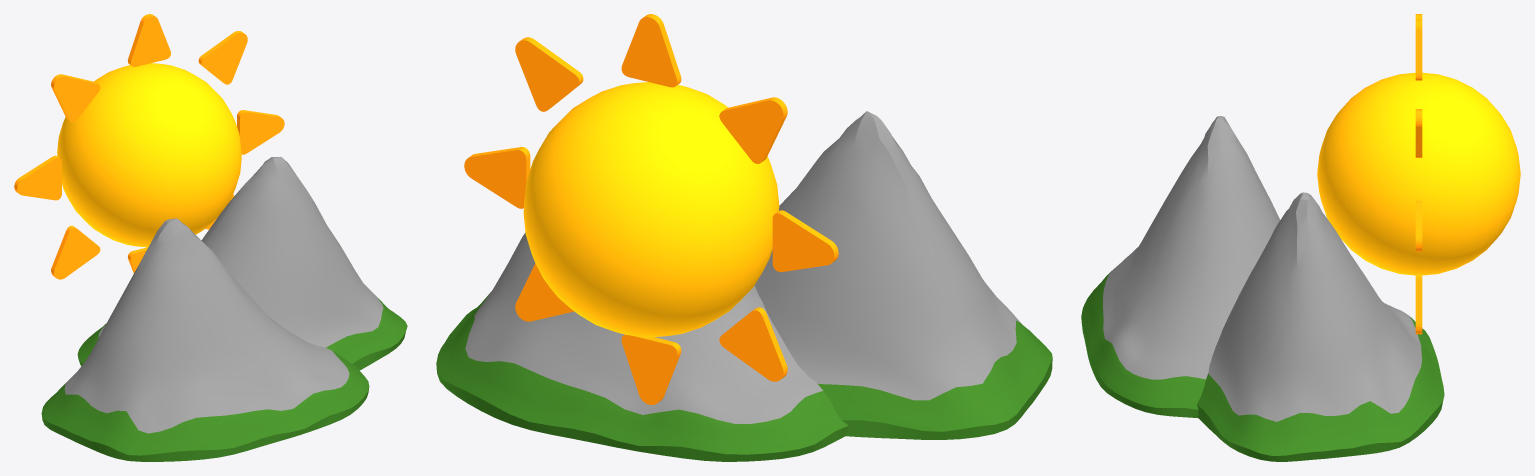
Rendered from sunrise_over_mountains.glb.
The picture shows the model from 3 angles, left to right: view 1: azimuth 30°, elevation 25°; view 2: azimuth 150°, elevation 25°; view 3: azimuth 270°, elevation 25°; orthographic projection. The views are drawn at different scales.
Parts seen in each view (by area): view 1: Cube.525; view 2: Cube.525; view 3: Cube.525.
Boxes of the visible parts, <box> form: Cube.525: <box>14,14,407,461</box>; Cube.525: <box>436,14,1052,461</box>; Cube.525: <box>1081,14,1520,461</box>.
Bounding box in the file's own units: 2.5 × 2 × 2.33.
1 material, 1 textured.
